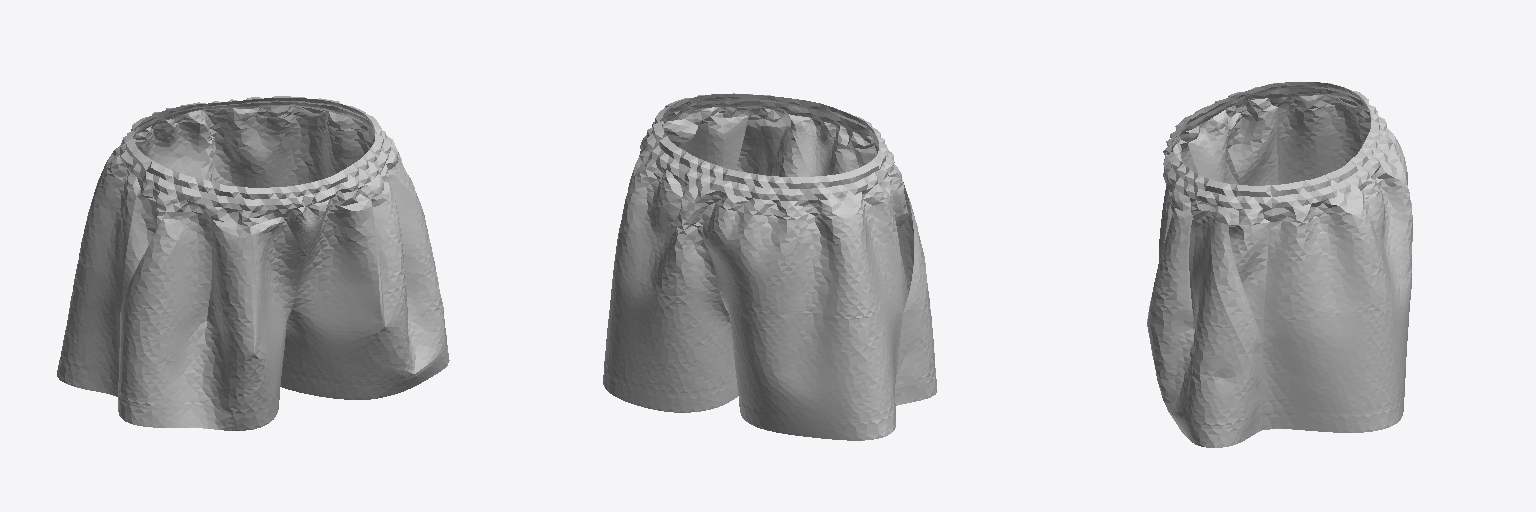
Rendered from XLarge_Short.obj.
3 views of the same model, side by side, from view 1: azimuth 30°, elevation 25°; view 2: azimuth 150°, elevation 25°; view 3: azimuth 270°, elevation 25° (orthographic).
Visible parts, largest first — view 1: duanku.004; view 2: duanku.004; view 3: duanku.004.
Boxes of the visible parts, x1,y1,x2,y2 form: duanku.004: [57, 96, 449, 430]; duanku.004: [603, 93, 936, 440]; duanku.004: [1147, 82, 1412, 447].
Bounding box in the file's own units: 0.62 × 0.4661 × 0.4477.